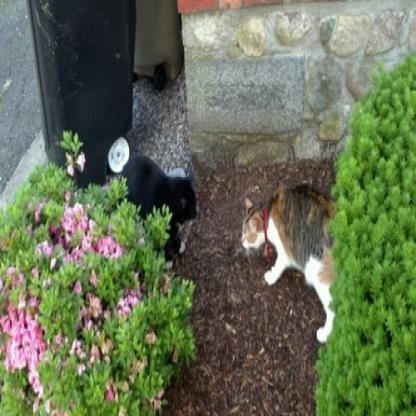Target: (234, 180, 364, 344), (109, 149, 202, 262)
